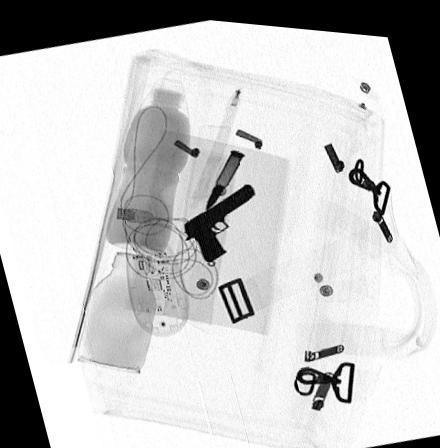Bullet: (204, 144, 244, 208)
Gun: (183, 176, 255, 256)
